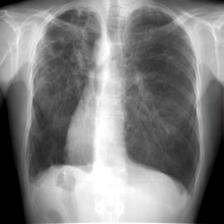tuberculosis: (21, 0, 204, 202)
